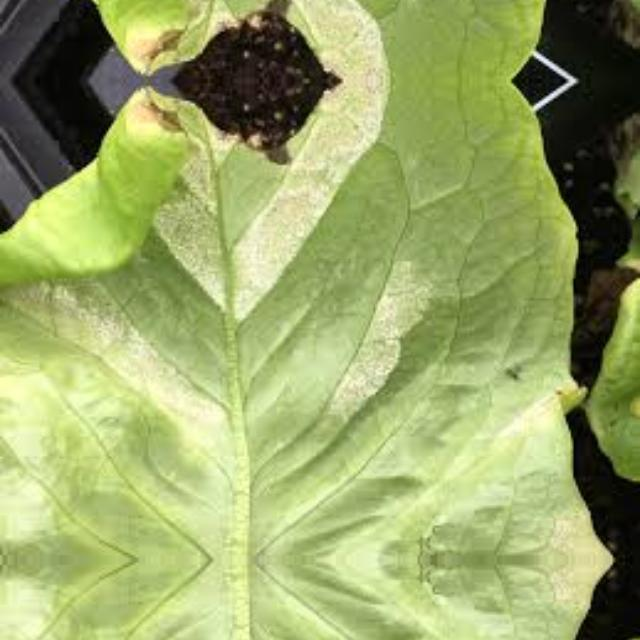Downy_mildew: (0, 84, 612, 560), (0, 559, 612, 640), (0, 0, 612, 76)
